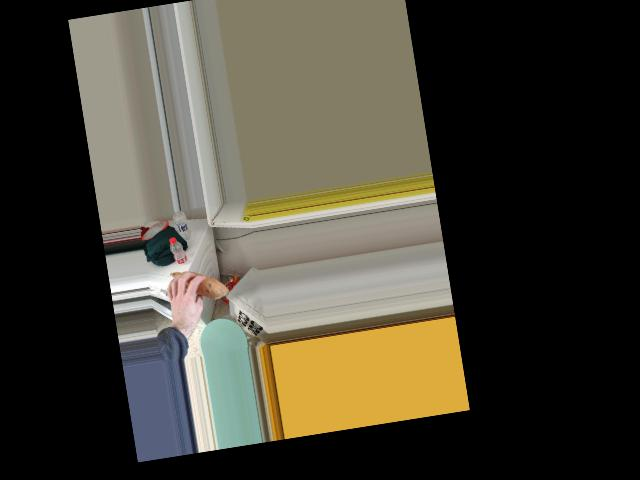sweet_potato: (167, 264, 227, 305)
